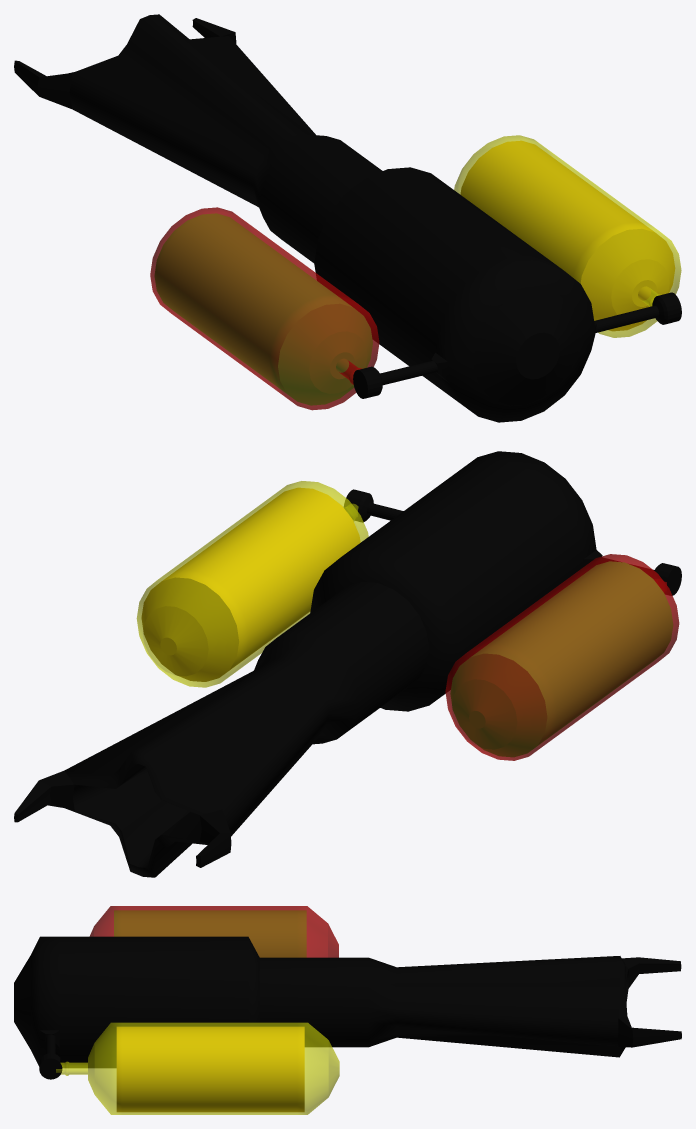
Rendered from Plasma-kirsten-Blaster.fbx.
The picture shows the model from 3 angles, top to bottom: view 1: azimuth 30°, elevation 25°; view 2: azimuth 150°, elevation 25°; view 3: azimuth 270°, elevation 25°; orthographic projection. The views are drawn at different scales.
Visible parts, largest first — view 1: pCylinder3, pCylinder1, pCylinder7, pCylinder5, pCylinder6, pCylinder4, pCylinder2; view 2: pCylinder3, pCylinder1, pCylinder5, pCylinder7, pCylinder6, pCylinder4, pCylinder2; view 3: pCylinder3, pCylinder5, pCylinder6, pCylinder1, pCylinder7, pCylinder4.
Part boxes in pixels (x1,y1,x2,y2): pCylinder3: (14, 14, 596, 422); pCylinder1: (150, 207, 379, 410); pCylinder7: (154, 213, 372, 405); pCylinder5: (454, 135, 681, 337); pCylinder6: (460, 140, 675, 331); pCylinder4: (594, 292, 681, 332); pCylinder2: (353, 360, 437, 398); pCylinder3: (14, 451, 602, 877); pCylinder1: (445, 554, 679, 760); pCylinder5: (136, 481, 368, 687); pCylinder7: (450, 561, 672, 756); pCylinder6: (141, 487, 360, 681); pCylinder4: (344, 489, 403, 522); pCylinder2: (595, 557, 681, 595); pCylinder3: (14, 936, 681, 1067); pCylinder5: (56, 1022, 339, 1114); pCylinder6: (116, 1026, 304, 1112); pCylinder1: (89, 906, 338, 957); pCylinder7: (114, 910, 306, 957); pCylinder4: (39, 1034, 62, 1079).
Bounding box in the file's own units: 13.22 × 4.8 × 24.16.
